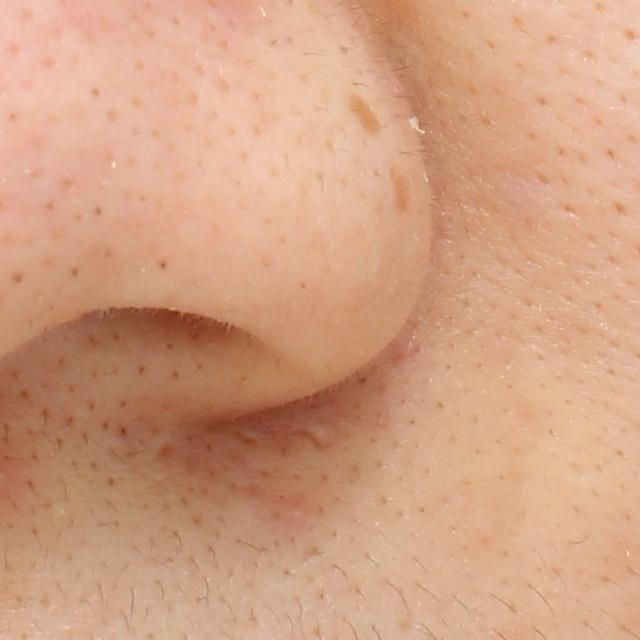melasma: (333, 84, 391, 148), (386, 162, 420, 214)
